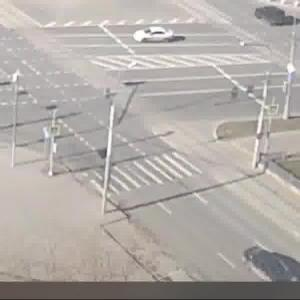car: (246, 240, 295, 281), (136, 25, 179, 46), (254, 5, 288, 26)
